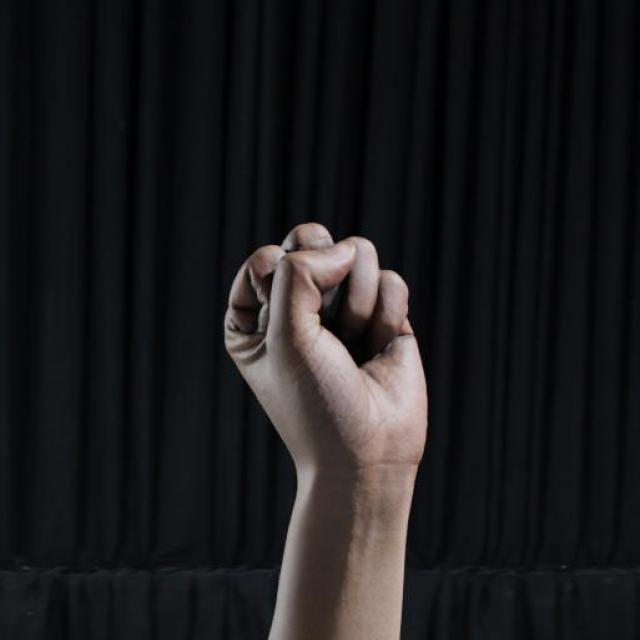S: (221, 220, 434, 486)
